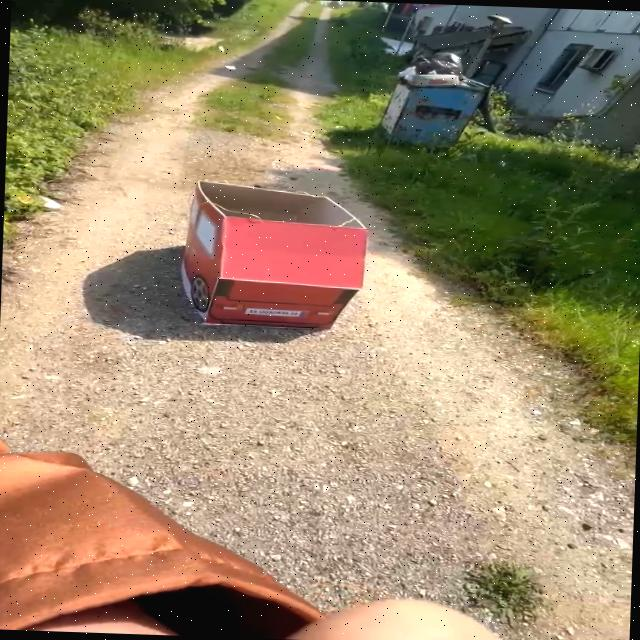red_car: (141, 178, 387, 346)
